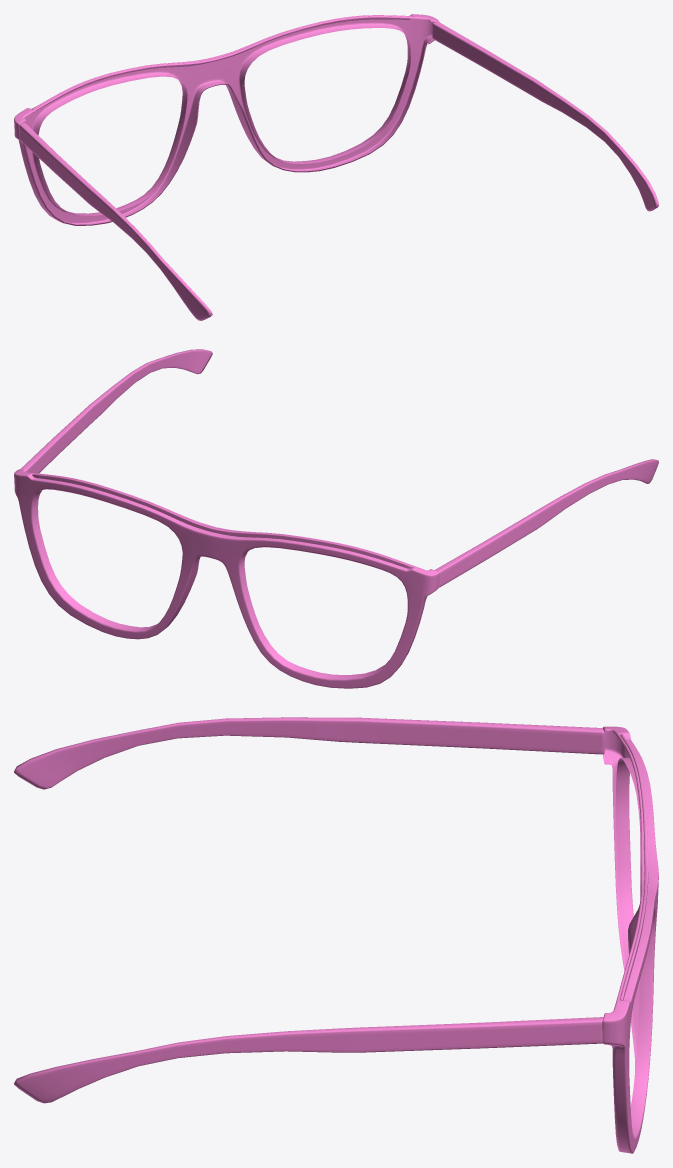
The model's file is sunglass_pink.fbx.
3 renders of one model, top to bottom at view 1: azimuth 30°, elevation 25°; view 2: azimuth 150°, elevation 25°; view 3: azimuth 270°, elevation 25°, orthographic. The views are drawn at different scales.
Parts seen in each view (by area): view 1: am_body.001; view 2: am_body.001; view 3: am_body.001.
Boxes of the visible parts, x1,y1,x2,y2 form: am_body.001: (14, 14, 658, 320); am_body.001: (14, 349, 658, 688); am_body.001: (14, 717, 658, 1153).
Size of the model in its own units: 16.26 by 4.9 by 13.72.
